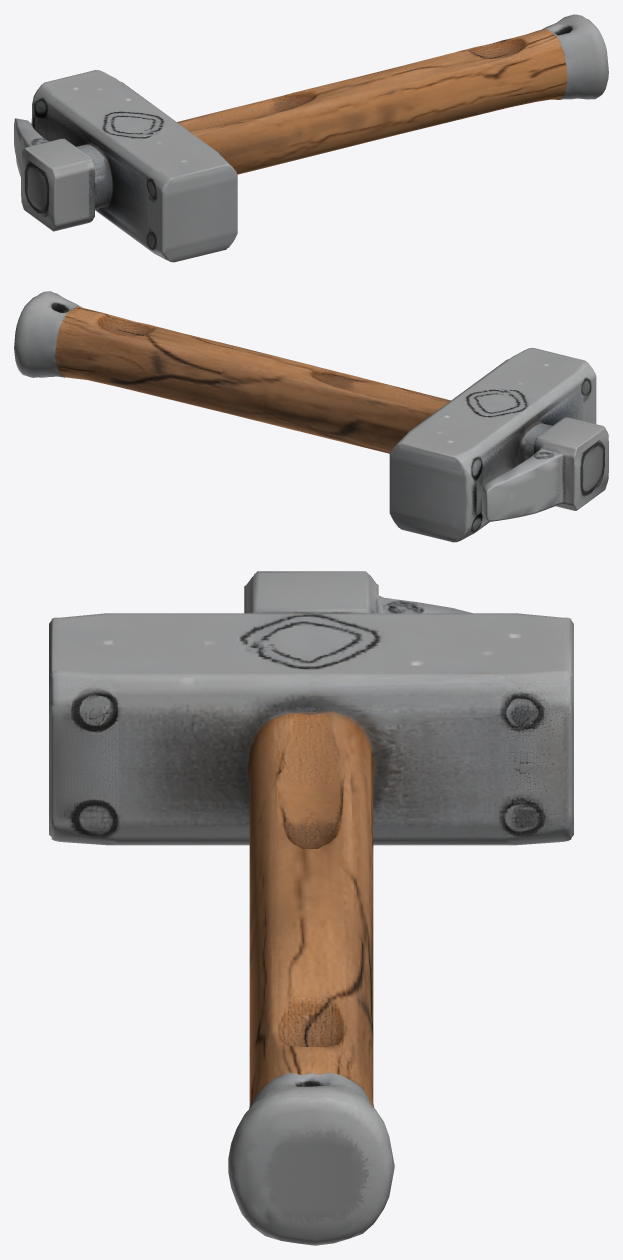
The model's file is hammer.fbx.
3 renders of one model, top to bottom at view 1: azimuth 30°, elevation 25°; view 2: azimuth 150°, elevation 25°; view 3: azimuth 270°, elevation 25°, orthographic. The views are drawn at different scales.
Visible parts, largest first — view 1: Mesh_0; view 2: Mesh_0; view 3: Mesh_0.
Part boxes in pixels (x1,y1,x2,y2): Mesh_0: (14, 14, 608, 262); Mesh_0: (14, 291, 608, 542); Mesh_0: (49, 571, 573, 1245).
Bounding box in the file's own units: 206 × 30 × 84.08.
Materials: 1 (1 with a texture image).
